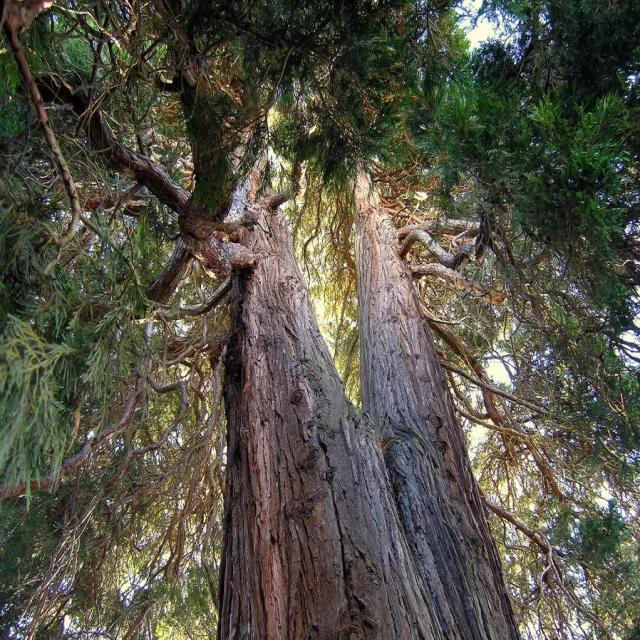cuibai: (7, 7, 388, 640), (297, 5, 637, 640)
